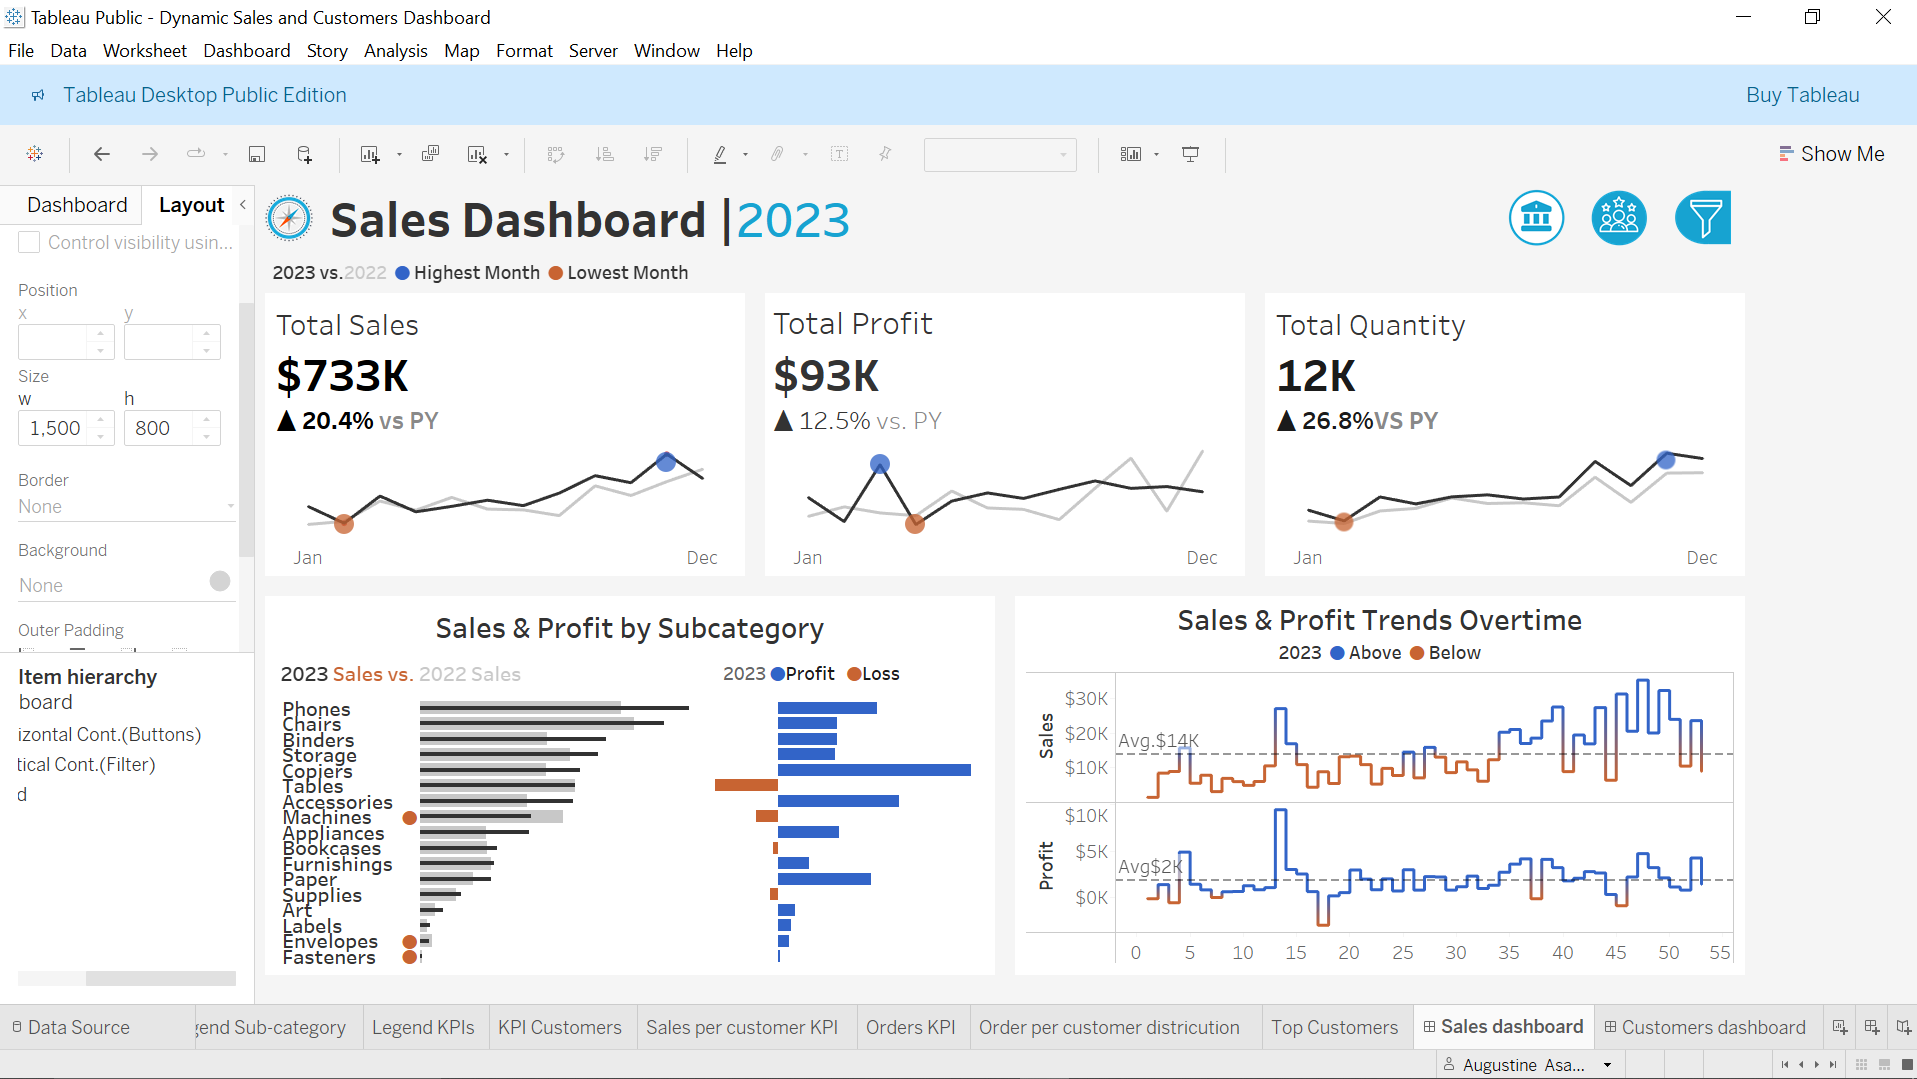

This screenshot's page, from the dashboard's own definition file:
{"tool":"tableau","page":{"name":"Sales dashboard","canvas":[1500,800],"ordinal":1},"visuals":[{"type":"image","param":"Image/Icon - Logo.png","box":[0,0,67,65]},{"type":"text","box":[67,0,924,65]},{"type":"dashboard-object","box":[1239,0,84,65]},{"type":"dashboard-object","box":[1323,0,83,65]},{"type":"dashboard-object","box":[1406,0,83,65]},{"type":"blank","box":[1245,10,242.5,67]},{"type":"worksheet","title":"Legend KPIs","mark":"Automatic","box":[0,65,1500,43]},{"type":"text","box":[1245,77,242.5,41]},{"type":"worksheet","title":"KPI Sales","mark":"Automatic","rows":["Calculation_1692227563233910800"],"cols":["Order Date"],"box":[0,108,500,293]},{"type":"worksheet","title":"Profit KPI","mark":"Automatic","rows":["Calculation_1692227563603456024"],"cols":["Order Date"],"box":[500,108,500,293]},{"type":"worksheet","title":"KPI Quantity","mark":"Automatic","rows":["Calculation_1692227563628003365"],"cols":["Order Date"],"box":[1000,108,500,293]},{"type":"parameter","param":"[Parameters].[Parameter 1]","box":[1245,118,242.5,60]},{"type":"text","box":[1245,178,242.5,36]},{"type":"filter","title":"KPI Sales","param":"[federated.0cocrun07rxf6k1fiare80s47cgy].[none:Category:nk]","box":[1245,214,242.5,70]},{"type":"filter","title":"KPI Sales","param":"[federated.0cocrun07rxf6k1fiare80s47cgy].[none:Sub-Category:nk]","box":[1245,284,242.5,70]},{"type":"text","box":[1245,354,242.5,36]},{"type":"filter","title":"KPI Sales","param":"[federated.0cocrun07rxf6k1fiare80s47cgy].[none:Region:nk]","box":[1245,390,242.5,70]},{"type":"text","box":[17,418,716,47]},{"type":"text","box":[767,418,716,32]},{"type":"text","box":[767,450,716,33]},{"type":"filter","title":"KPI Sales","param":"[federated.0cocrun07rxf6k1fiare80s47cgy].[none:State:nk]","box":[1245,460,242.5,70]},{"type":"worksheet","title":"Legend Sub-category","mark":"Automatic","box":[17,465,363,46]},{"type":"text","box":[380,465,353,46]},{"type":"worksheet","title":"Weekly Trends","mark":"Automatic","rows":["Calculation_1692227562118017028","Calculation_1692227563594092565"],"cols":["Order Date"],"box":[767,483,716,300]},{"type":"worksheet","title":"Sub-Category Comparism","mark":"Bar","rows":["Sub-Category","Calculation_1692227563902668841"],"cols":["CY sales (copy)_1692227562118819845","Calculation_1692227562118017028","Calculation_1692227563594092565"],"box":[17,511,716,272]},{"type":"filter","title":"KPI Sales","param":"[federated.0cocrun07rxf6k1fiare80s47cgy].[none:City:nk]","box":[1245,530,242.5,70]}]}

Visuals, with their boxes on the page's 1500x800 design canvas (x1, y1, x2, y2). These are canvas units, not pixel positions in the 1917x1079 screenshot, which may show the page scaled, cropped or inside an application window:
image: box(0, 0, 67, 65)
text: box(67, 0, 991, 65)
dashboard-object: box(1239, 0, 1323, 65)
dashboard-object: box(1323, 0, 1406, 65)
dashboard-object: box(1406, 0, 1489, 65)
blank: box(1245, 10, 1488, 77)
"Legend KPIs" worksheet: box(0, 65, 1500, 108)
text: box(1245, 77, 1488, 118)
"KPI Sales" worksheet: box(0, 108, 500, 401)
"Profit KPI" worksheet: box(500, 108, 1000, 401)
"KPI Quantity" worksheet: box(1000, 108, 1500, 401)
parameter: box(1245, 118, 1488, 178)
text: box(1245, 178, 1488, 214)
"KPI Sales" filter: box(1245, 214, 1488, 284)
"KPI Sales" filter: box(1245, 284, 1488, 354)
text: box(1245, 354, 1488, 390)
"KPI Sales" filter: box(1245, 390, 1488, 460)
text: box(17, 418, 733, 465)
text: box(767, 418, 1483, 450)
text: box(767, 450, 1483, 483)
"KPI Sales" filter: box(1245, 460, 1488, 530)
"Legend Sub-category" worksheet: box(17, 465, 380, 511)
text: box(380, 465, 733, 511)
"Weekly Trends" worksheet: box(767, 483, 1483, 783)
"Sub-Category Comparism" worksheet (Bar marks): box(17, 511, 733, 783)
"KPI Sales" filter: box(1245, 530, 1488, 600)
